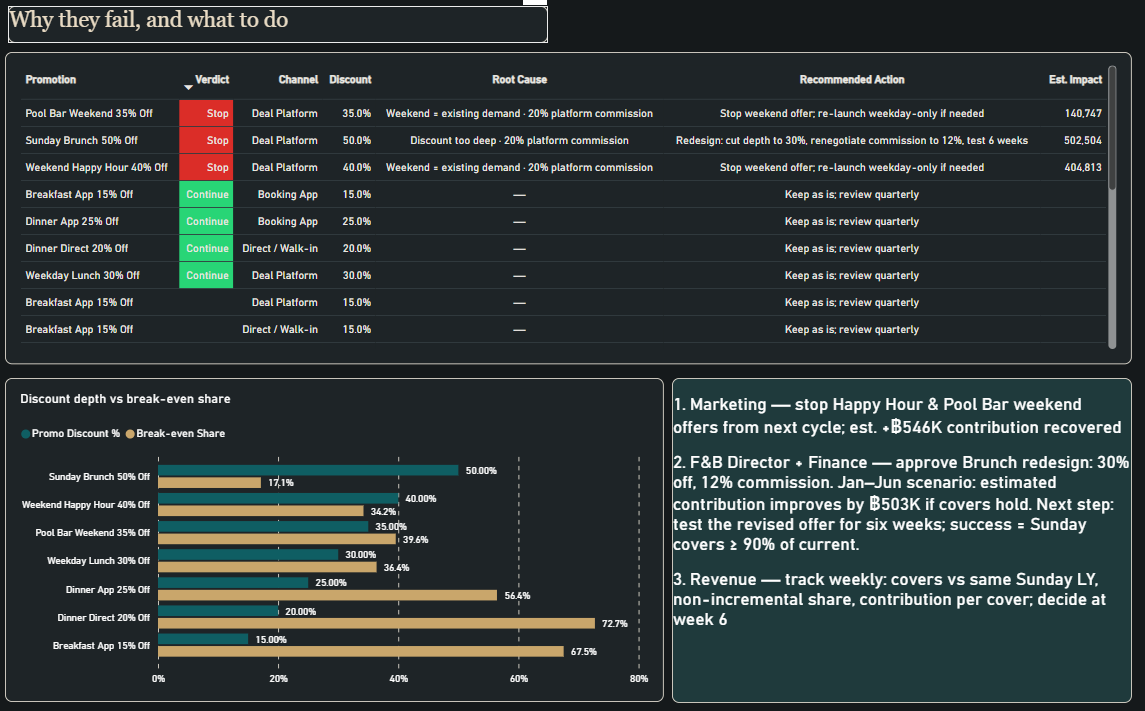

The dashboard page shown, as its layout file describes it:
{"tool":"powerbi","page":{"name":"Diagnosis & Action Plan","canvas":[1300,980],"ordinal":2},"visuals":[{"type":"textbox","box":[24,24,600,41],"z":0},{"type":"tableEx","fields":{"Values":["DimPromo.PromoName","Promo decision.Promo Verdict","vw_promo_uplift.ChannelName","Sum(DimPromo.DiscountPct)","_Measures.Root Cause","_Measures.Recommended Action","_Measures.Est. Impact"]},"box":[20.6,75,1252.2,347.2],"z":1000},{"type":"clusteredBarChart","title":"Discount depth vs break-even share","fields":{"Category":["DimPromo.PromoName"],"Y":["Promo decision.Promo Discount %","Promo decision.Break-even Share"]},"box":[20.6,438,732,360],"z":2000},{"type":"textbox","box":[762.2,438,510.6,360.5],"z":2001}]}

Visuals, with their boxes on the page's 1300x980 design canvas (x1, y1, x2, y2). These are canvas units, not pixel positions in the 1145x711 screenshot, which may show the page scaled, cropped or inside an application window:
textbox: (24, 24, 624, 65)
tableEx - DimPromo.PromoName x Promo decision.Promo Verdict: (21, 75, 1273, 422)
"Discount depth vs break-even share" clusteredBarChart: (21, 438, 753, 798)
textbox: (762, 438, 1273, 798)
